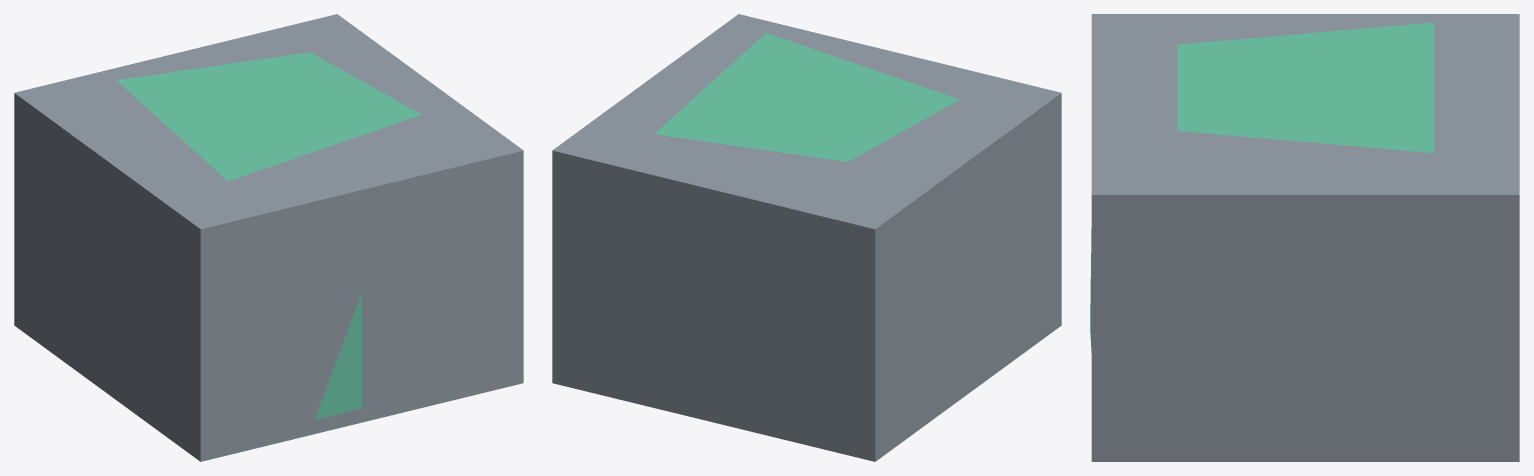
File: CO_SuperweaponMatrix_LOD1.glb
3 views of the same model, side by side, from view 1: azimuth 30°, elevation 25°; view 2: azimuth 150°, elevation 25°; view 3: azimuth 270°, elevation 25° (orthographic). The views are drawn at different scales.
Visible parts, largest first — view 1: EntranceGate; view 2: EntranceGate; view 3: EntranceGate.
Boxes of the visible parts, x1,y1,x2,y2 form: EntranceGate: (14,14,523,461); EntranceGate: (552,14,1061,461); EntranceGate: (1090,14,1519,461).
Bounding box in the file's own units: 1000 × 760 × 1003.
